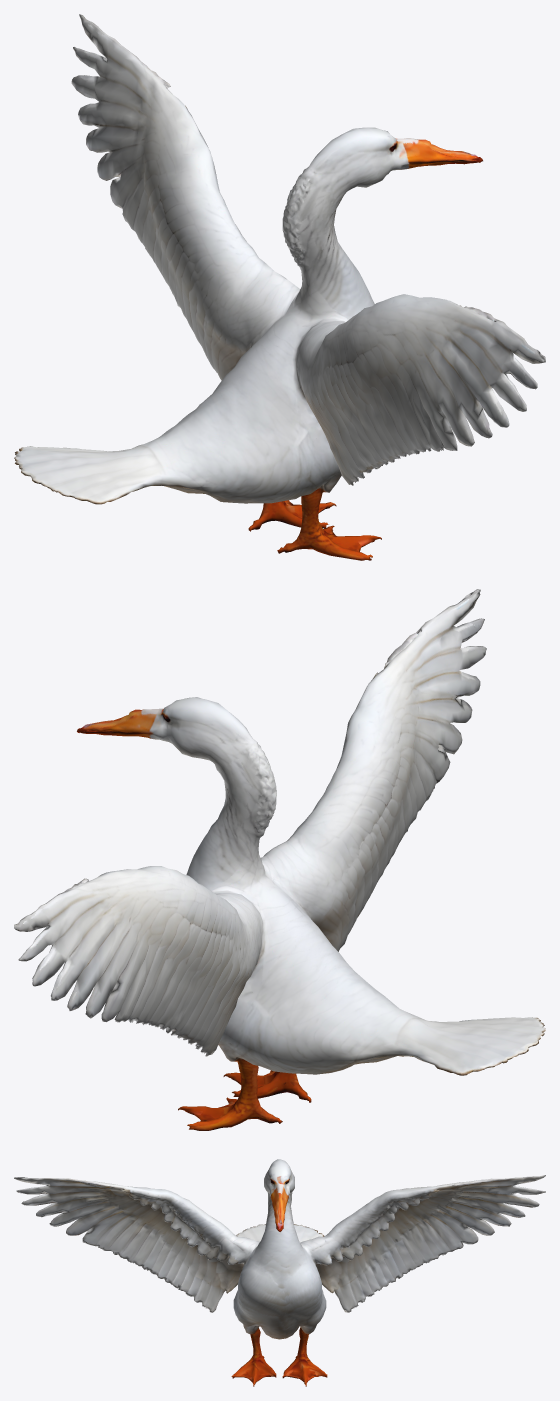
File: snow_goose.glb
3 views of the same model, one above another, from view 1: azimuth 30°, elevation 25°; view 2: azimuth 150°, elevation 25°; view 3: azimuth 270°, elevation 25° (orthographic). The views are drawn at different scales.
Parts seen in each view (by area): view 1: Model; view 2: Model; view 3: Model.
Boxes of the visible parts, left/top/right/bottom form: Model: left=14, top=14, right=545, bottom=560; Model: left=14, top=589, right=545, bottom=1130; Model: left=14, top=1159, right=545, bottom=1386.
Size of the model in its own units: 0.5605 by 0.4629 by 0.998.
1 material, 1 textured.
